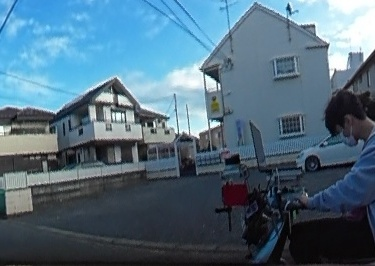person: (291, 85, 375, 266)
